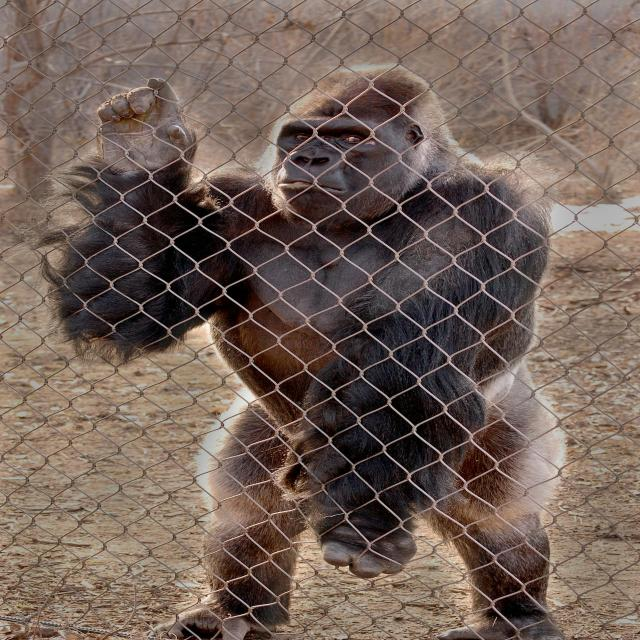Gorilla: (46, 67, 568, 640)
